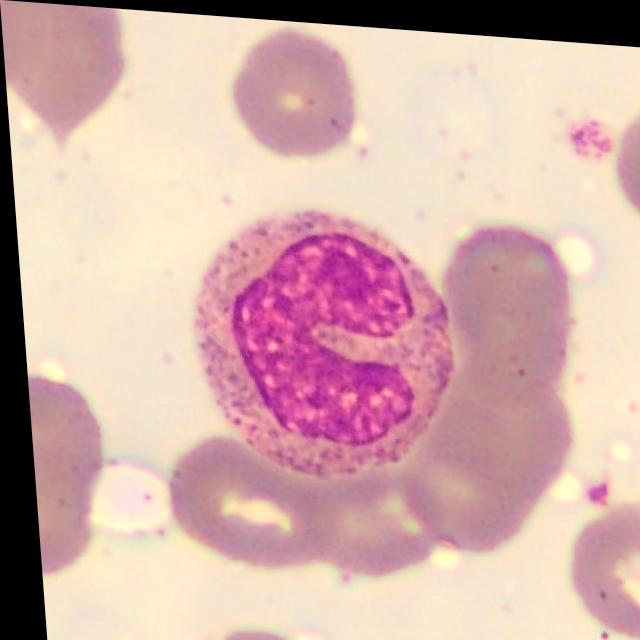Bastonete: (188, 206, 447, 479)
